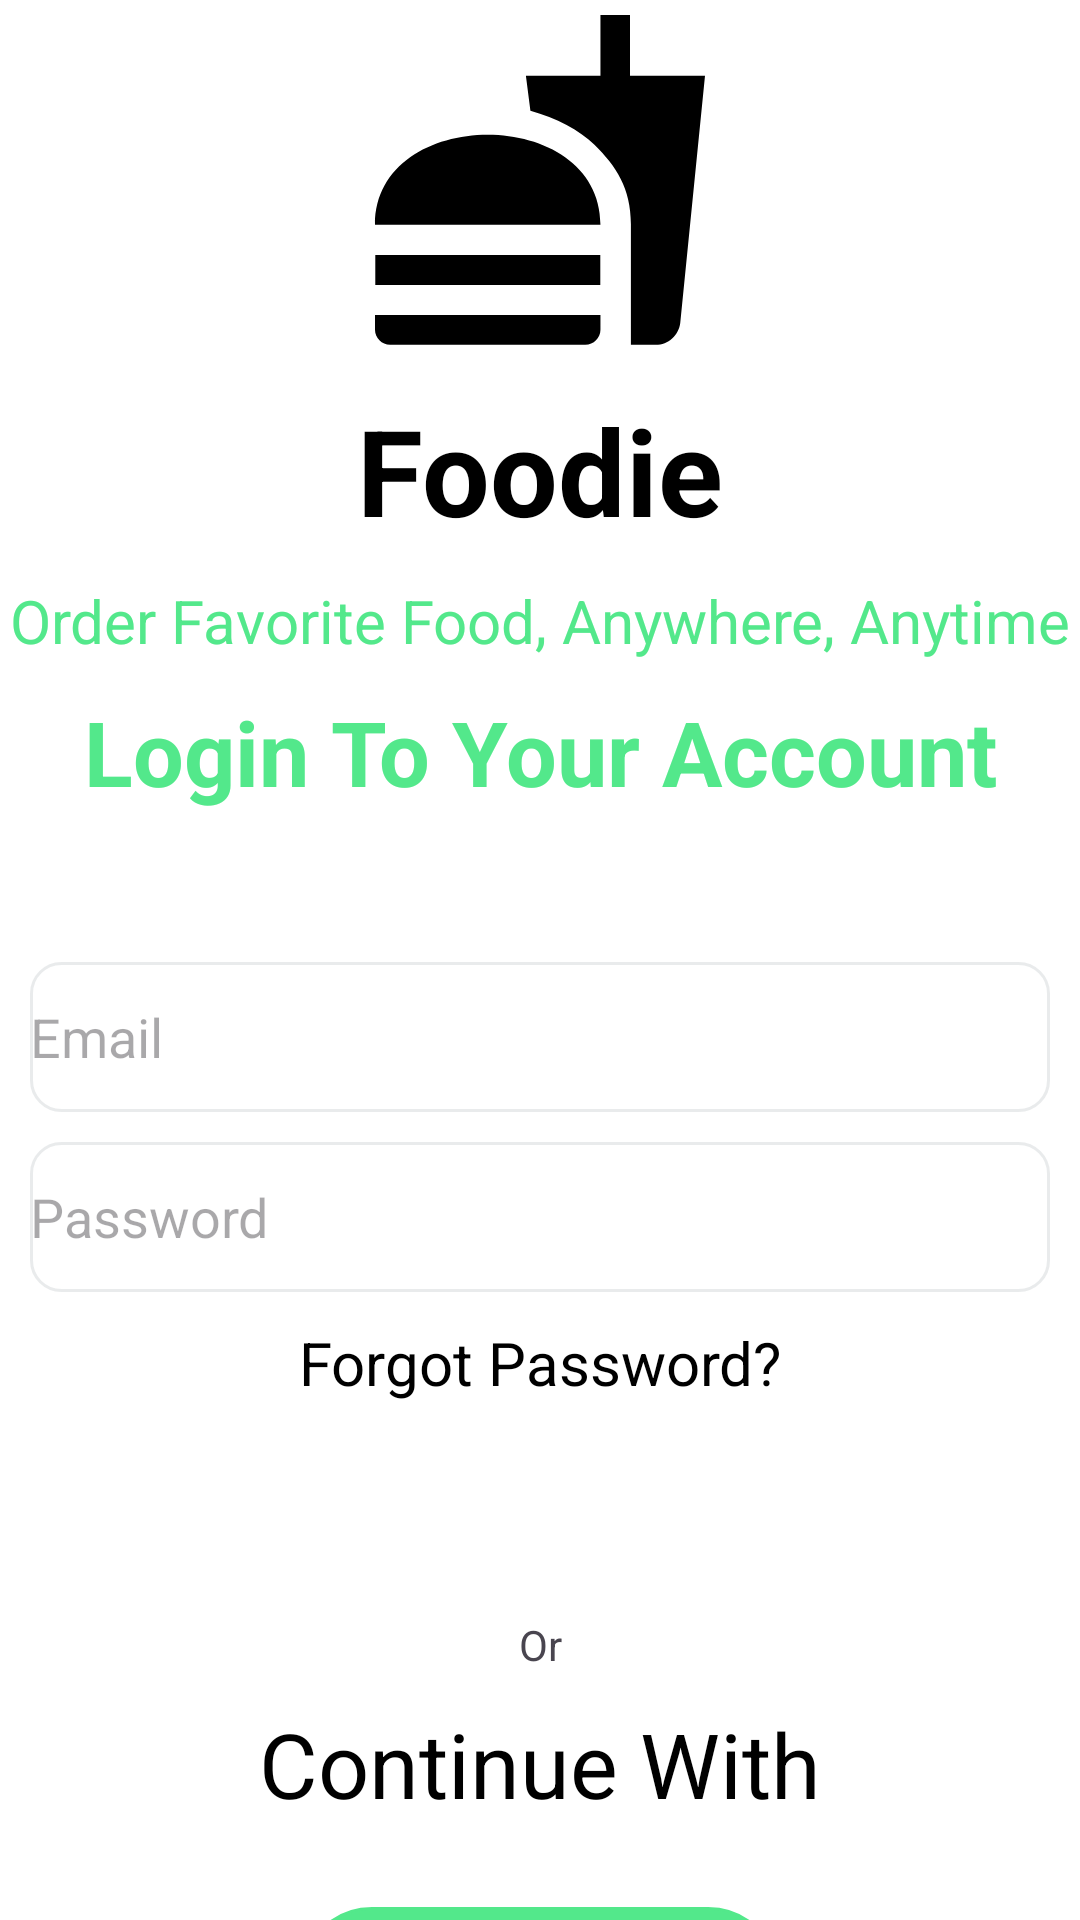

Icon click points for this 1080*1920 phone screenshot, format [x,y]:
fastfood: [540,180]
